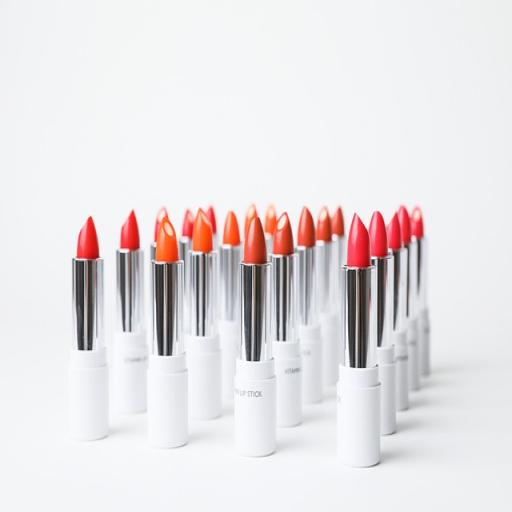lipstick: (337, 215, 380, 466), (235, 218, 275, 455), (148, 218, 187, 448), (69, 218, 108, 441), (187, 209, 221, 419), (112, 210, 147, 412), (270, 214, 301, 426), (369, 212, 395, 435), (296, 207, 322, 402), (219, 212, 242, 396), (316, 208, 340, 384), (387, 214, 408, 410), (398, 206, 419, 389), (411, 207, 429, 375), (179, 210, 194, 333), (332, 207, 346, 332), (150, 207, 168, 262), (264, 206, 277, 256), (207, 206, 218, 250), (244, 203, 257, 238)
